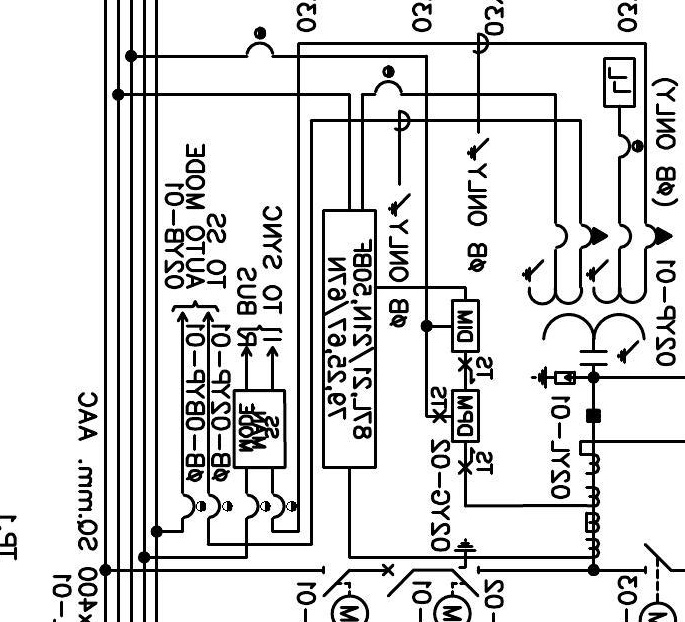115_breaker: (382, 563, 415, 598)
115_cvt_1p: (521, 221, 674, 367)
115_la: (530, 366, 576, 390)
DIM: (451, 299, 480, 353)
DPM: (451, 389, 480, 443)
LL: (603, 57, 636, 108)
ss_man_mode: (232, 389, 287, 469)
